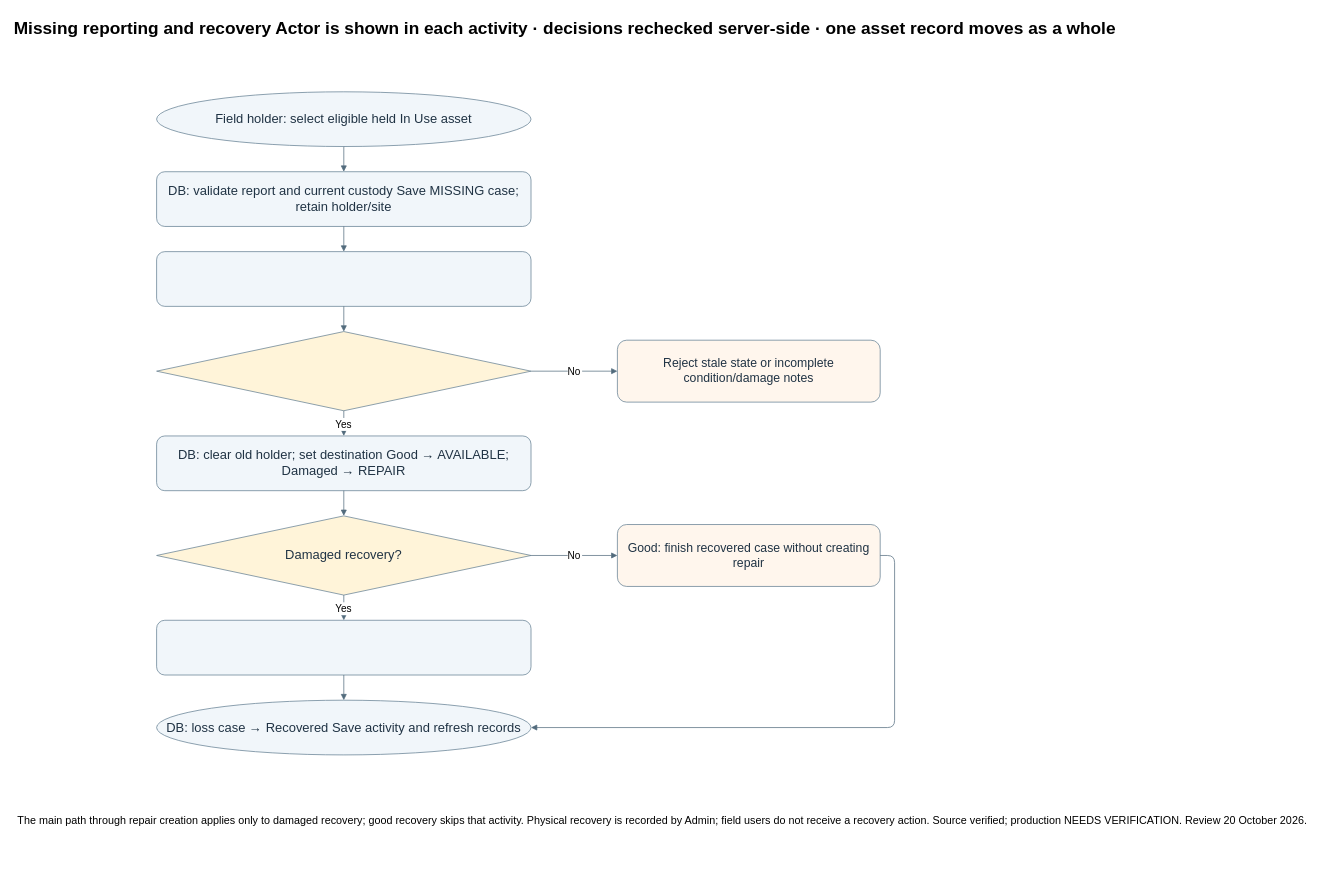
This 1320x889 diagram has some shape labels left out. The centre of each missing label's shape, as x and y in pixels:
Admin: record recovered condition and destination / resolution notes: point 343,278
DB: create linked reported repair case: point 343,647
Recovery condition and case state valid?: point 343,371
